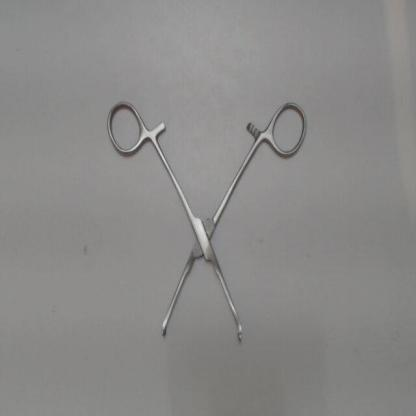Allis Tissue Forceps: (99, 90, 314, 351)
